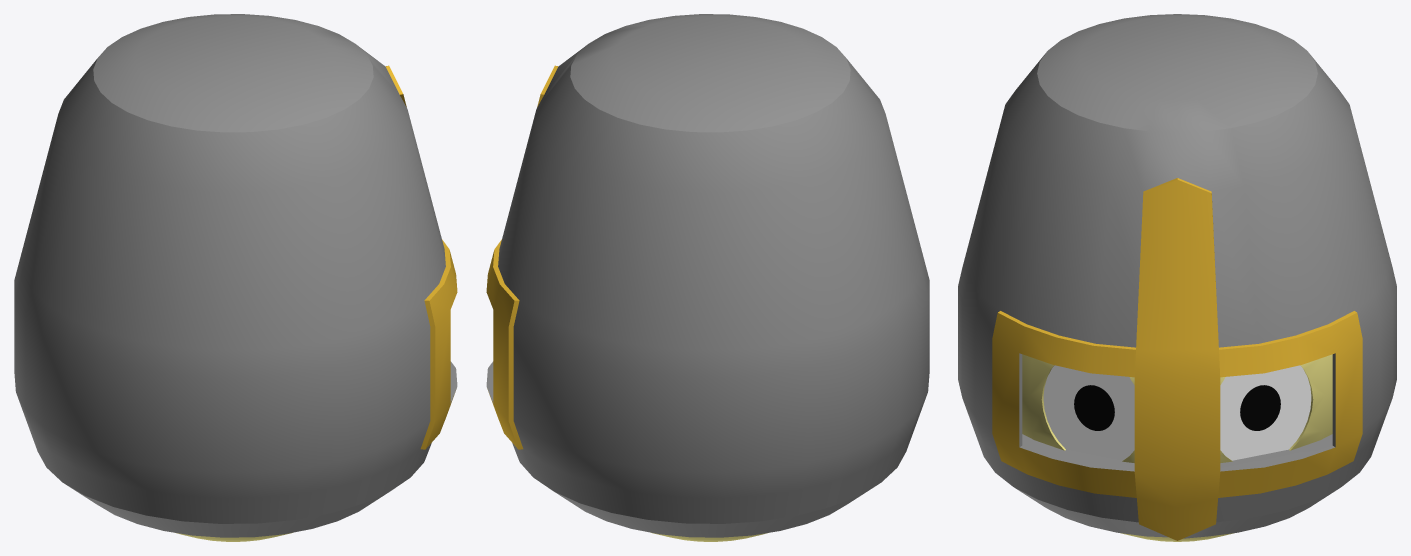
File: GuardPopulationIcon.fbx
3 renders of one model, left to right at view 1: azimuth 30°, elevation 25°; view 2: azimuth 150°, elevation 25°; view 3: azimuth 270°, elevation 25°, orthographic.
Parts seen in each view (by area): view 1: Cylinder.002; view 2: Cylinder.002; view 3: Cylinder.002, Cylinder, Cylinder.001, Sphere.
Boxes of the visible parts, <box> form: Cylinder.002: <box>14,14,457,537</box>; Cylinder.002: <box>486,14,929,537</box>; Cylinder.002: <box>958,14,1396,540</box>; Cylinder: <box>1043,365,1134,460</box>; Cylinder.001: <box>1220,365,1311,460</box>; Sphere: <box>1022,354,1332,541</box>.
Size of the model in its own units: 26.45 by 30.6 by 26.21.
